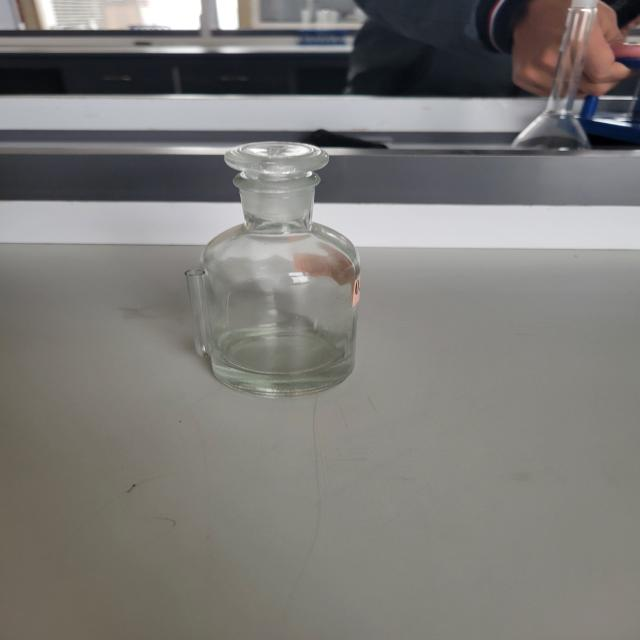Reagent_Bottle: (112, 123, 438, 423)
